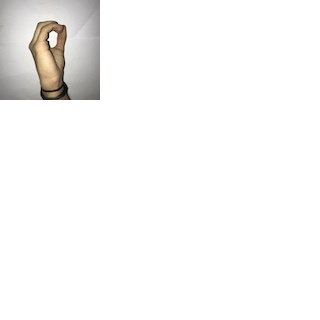rock: (27, 19, 70, 79)
